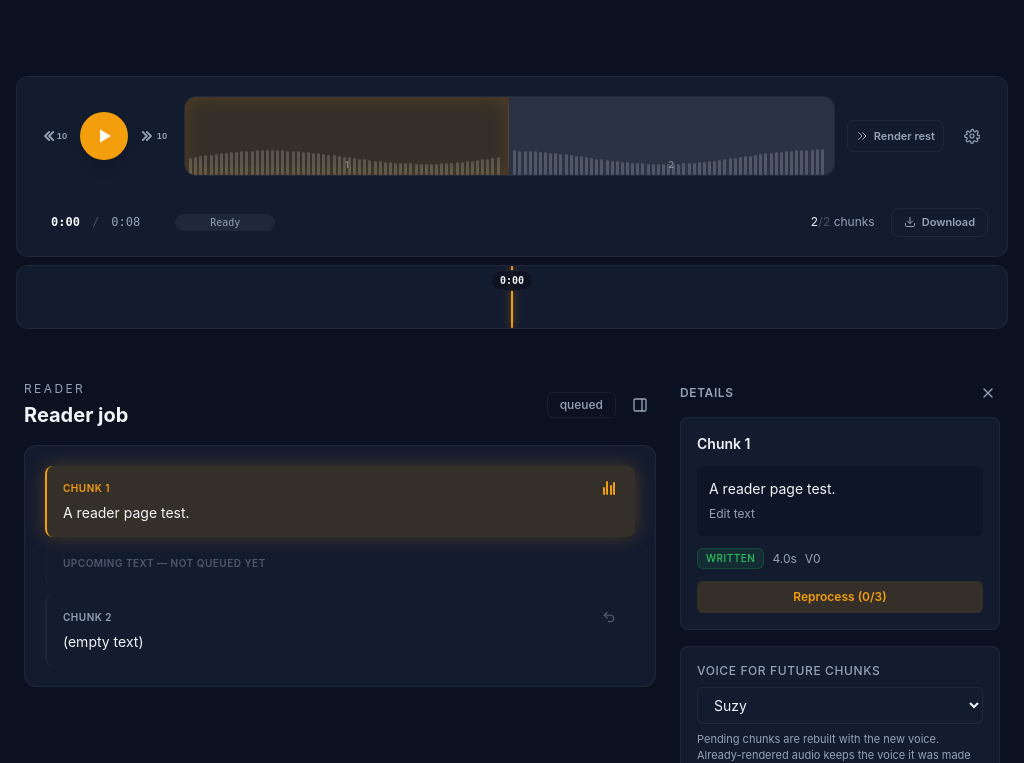
Test: asks the backend to render the rest of the job
Expected: the heading "Reader job" is shown, [24,401,128,429]
Click the button with aria-label "Render the rest of this job now": (895, 136) [847,120,944,152]
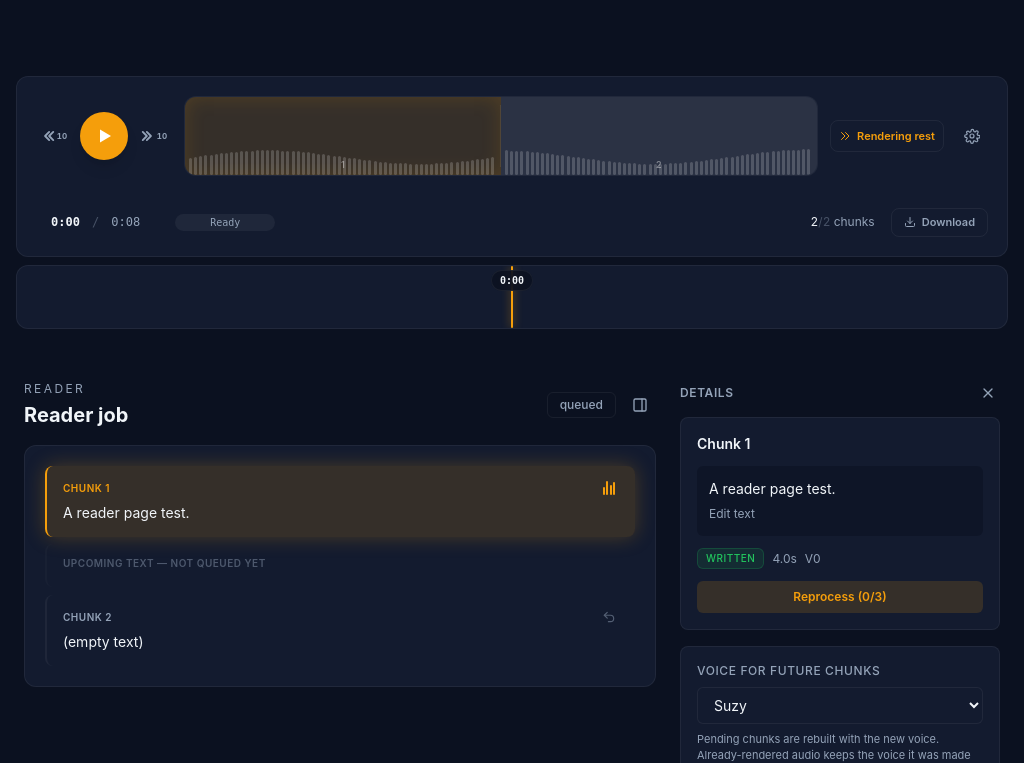
Now the button with aria-label "already renders to the end" is disabled, box [830,120,944,152]
